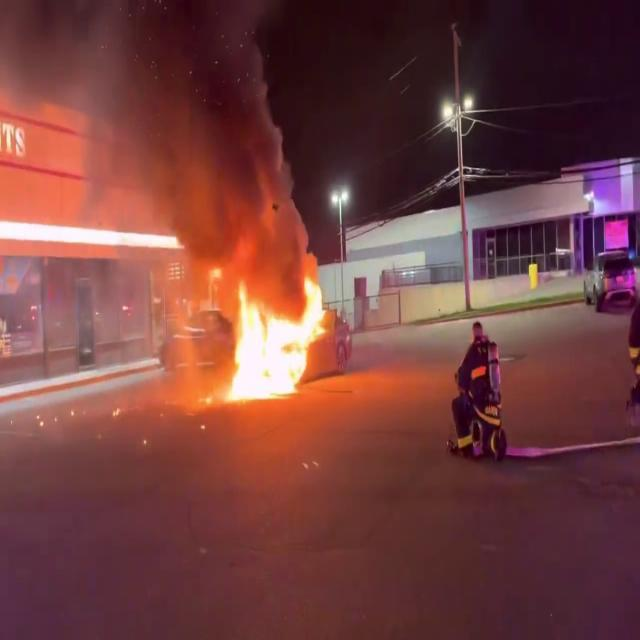Fire: (209, 266, 330, 402)
Smoke: (3, 0, 310, 256)
